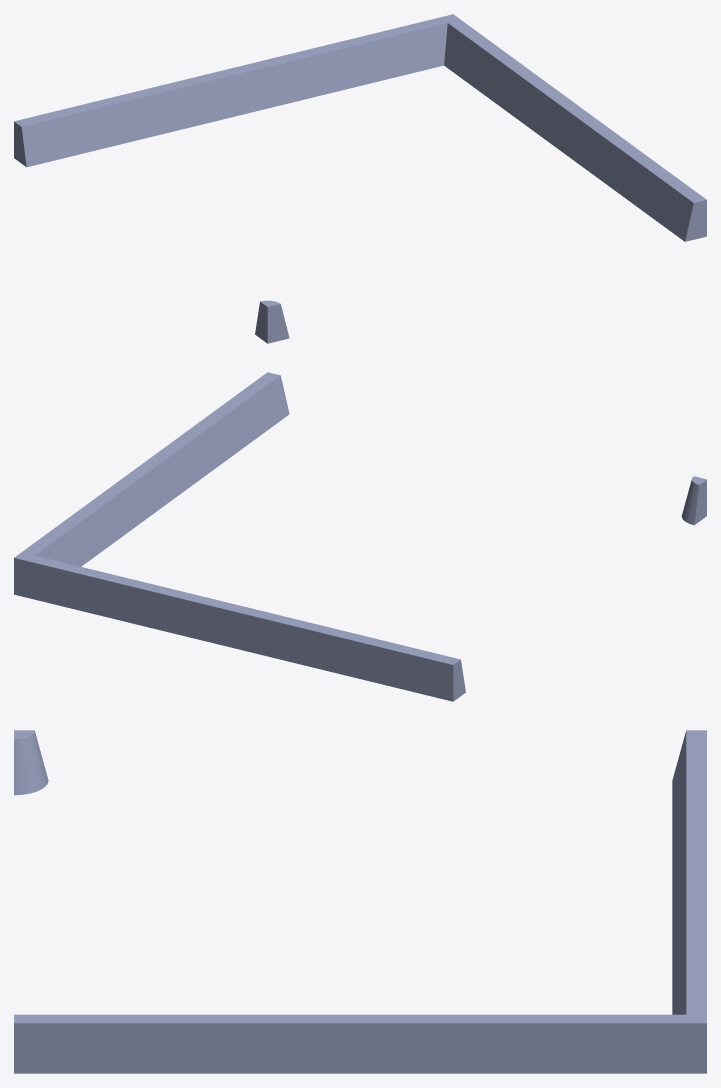
File: road-bend-square-barrier.glb
The picture shows the model from 3 angles, top to bottom: view 1: azimuth 30°, elevation 25°; view 2: azimuth 150°, elevation 25°; view 3: azimuth 270°, elevation 25°; orthographic projection. The views are drawn at different scales.
Parts seen in each view (by area): view 1: road-bend-square-barrier; view 2: road-bend-square-barrier; view 3: road-bend-square-barrier.
Part boxes in pixels (left/top/right/bottom): road-bend-square-barrier: left=14, top=14, right=706, bottom=343; road-bend-square-barrier: left=14, top=372, right=706, bottom=701; road-bend-square-barrier: left=14, top=730, right=706, bottom=1073.
Bounding box in the file's own units: 1 × 0.08 × 1.
1 material, 1 textured.
